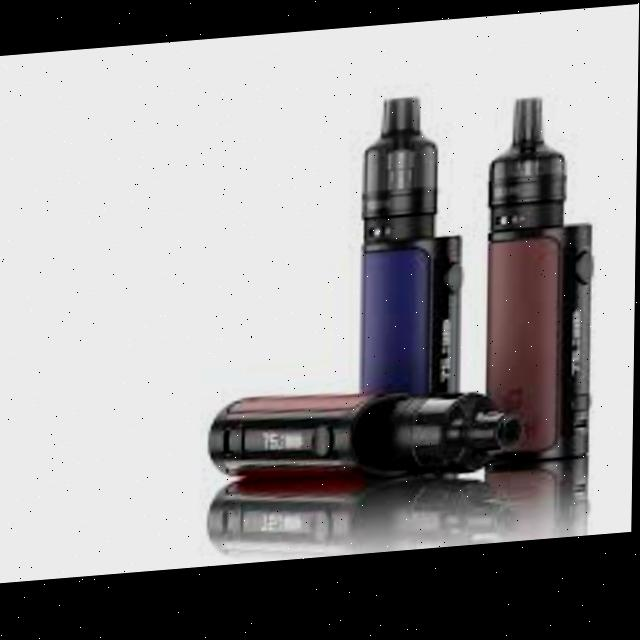vape: (486, 101, 595, 481), (210, 383, 527, 505), (361, 103, 466, 406)
